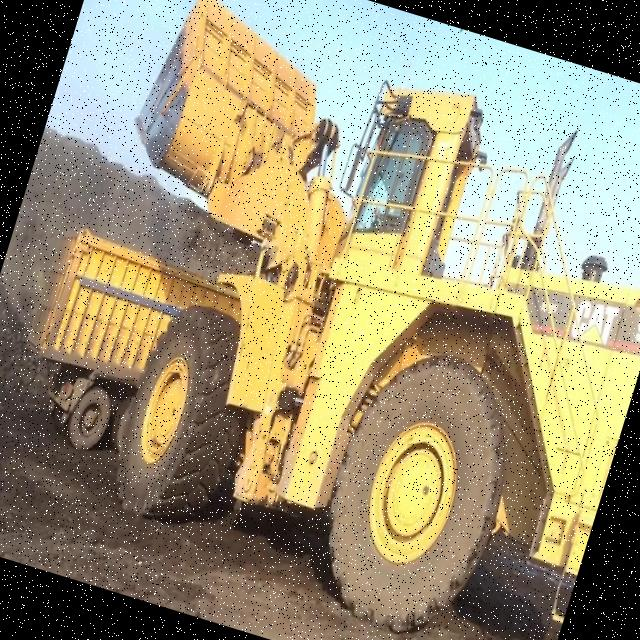Dump Truck: (0, 207, 265, 489)
Loader: (10, 0, 640, 640)
